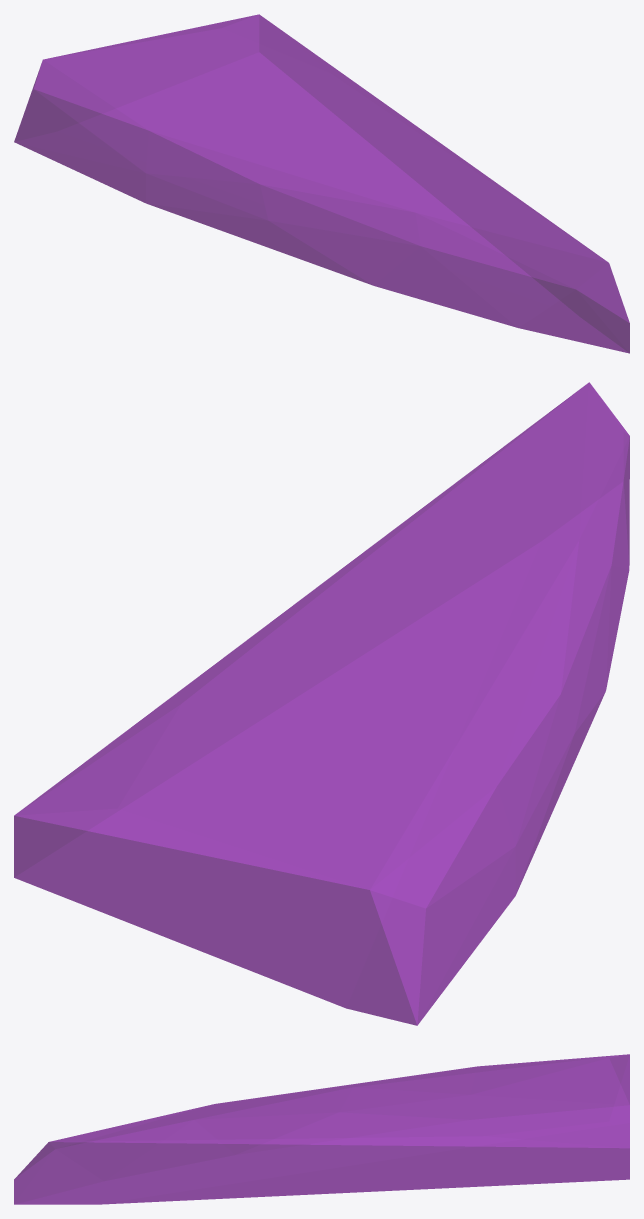
3 views of the same model, one above another, from view 1: azimuth 30°, elevation 25°; view 2: azimuth 150°, elevation 25°; view 3: azimuth 270°, elevation 25° (orthographic). The views are drawn at different scales.
Parts seen in each view (by area): view 1: Shape_IndexedFaceSet.044_Shape_IndexedFaceSet.1983; view 2: Shape_IndexedFaceSet.044_Shape_IndexedFaceSet.1983; view 3: Shape_IndexedFaceSet.044_Shape_IndexedFaceSet.1983.
Boxes of the visible parts, <box> form: Shape_IndexedFaceSet.044_Shape_IndexedFaceSet.1983: <box>14,14,629,353</box>; Shape_IndexedFaceSet.044_Shape_IndexedFaceSet.1983: <box>14,382,629,1025</box>; Shape_IndexedFaceSet.044_Shape_IndexedFaceSet.1983: <box>14,1054,629,1204</box>.
Size of the model in its own units: 0.0897 by 0.0264 by 0.2348.
